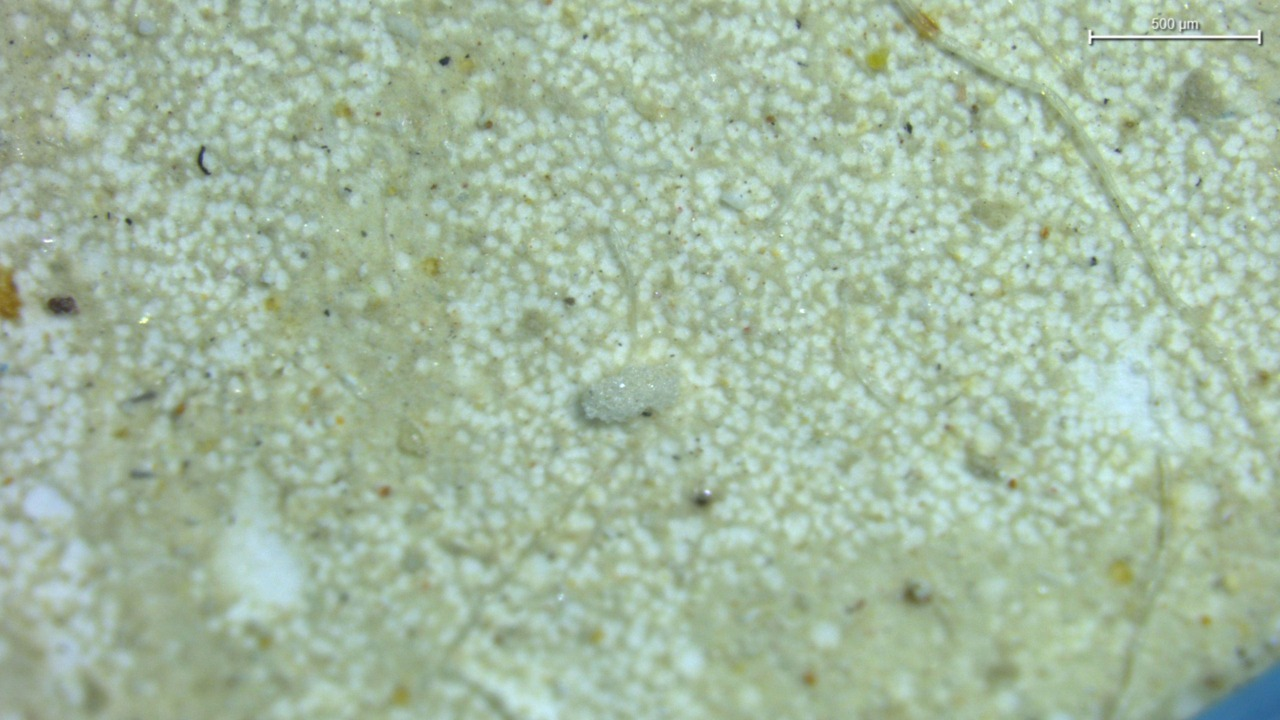microplastic_fragment: (579, 365, 680, 423)
